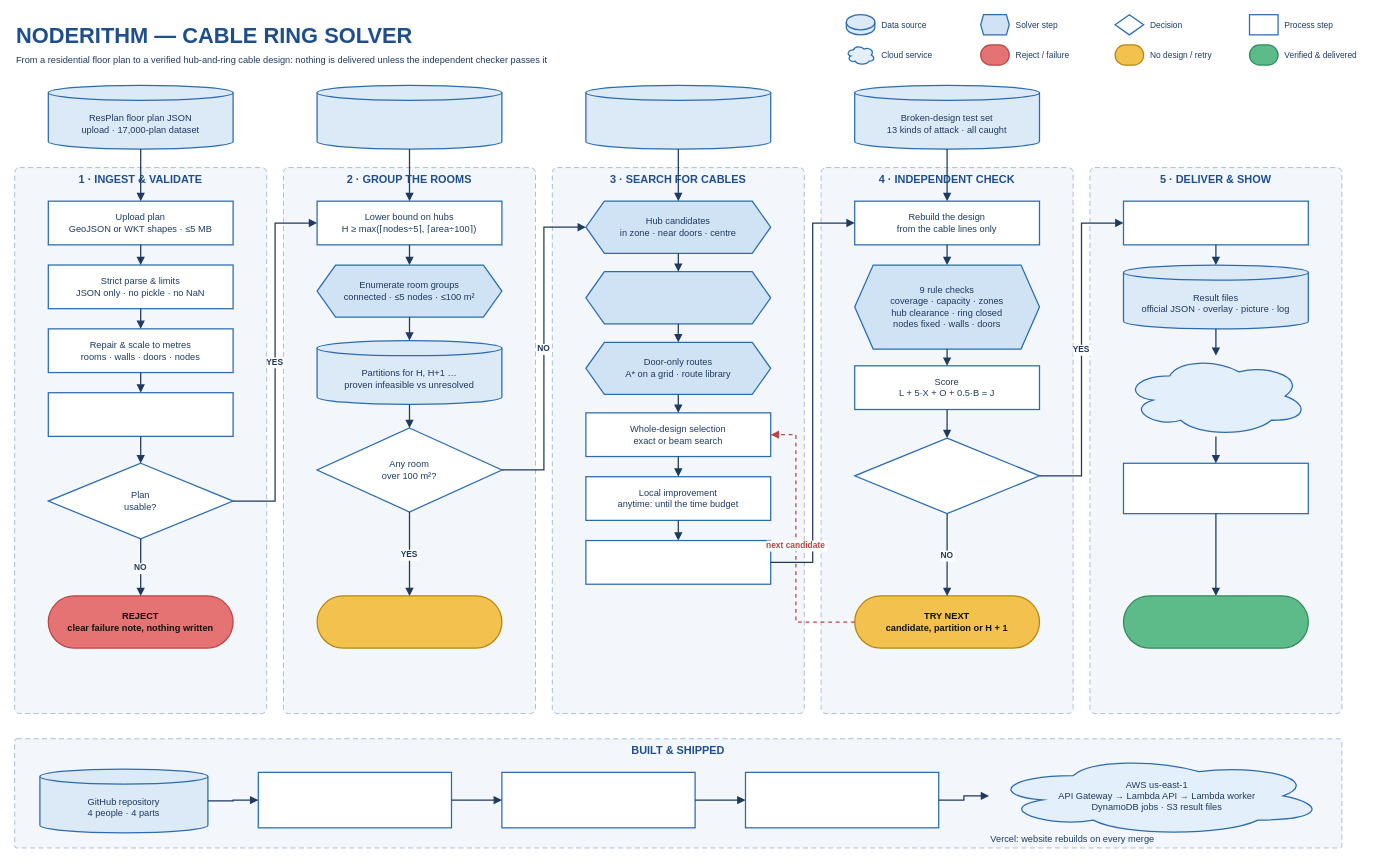
This 1397x864 diagram has some shape labels left out. The shapes that lost their labels are listed below. From the top down, each one's centre as x and y in pixels, then its label:
pixel 409 116: Challenge rules ≤5 nodes · ≤100 m² per hub 0.5 m wall clearance
pixel 678 116: Settings weights L·X·O·B · time budget
pixel 1215 222: Re-check the rounded numbers the official file itself
pixel 678 297: Visiting orders ranked permutations of nodes
pixel 140 414: Hub zones & room links zone = room − walls − 0.5 m
pixel 1215 396: Web API AWS Lambda · live progress steps
pixel 947 475: All rules pass?
pixel 1215 488: NodeRithm 3D twin explained step by step · 9-rule audit
pixel 678 562: Candidate design hubs · rings · cable polylines
pixel 409 621: NO DESIGN reason explained to the user
pixel 1215 621: VERIFIED DESIGN written, scored and delivered
pixel 354 799: CI on every push lint + ~1,300 tests Python 3.11 and 3.13
pixel 598 799: Container image built and smoke-tested solves a plan inside it
pixel 841 799: Automatic deploy AWS SAM · temporary pass no stored passwords
